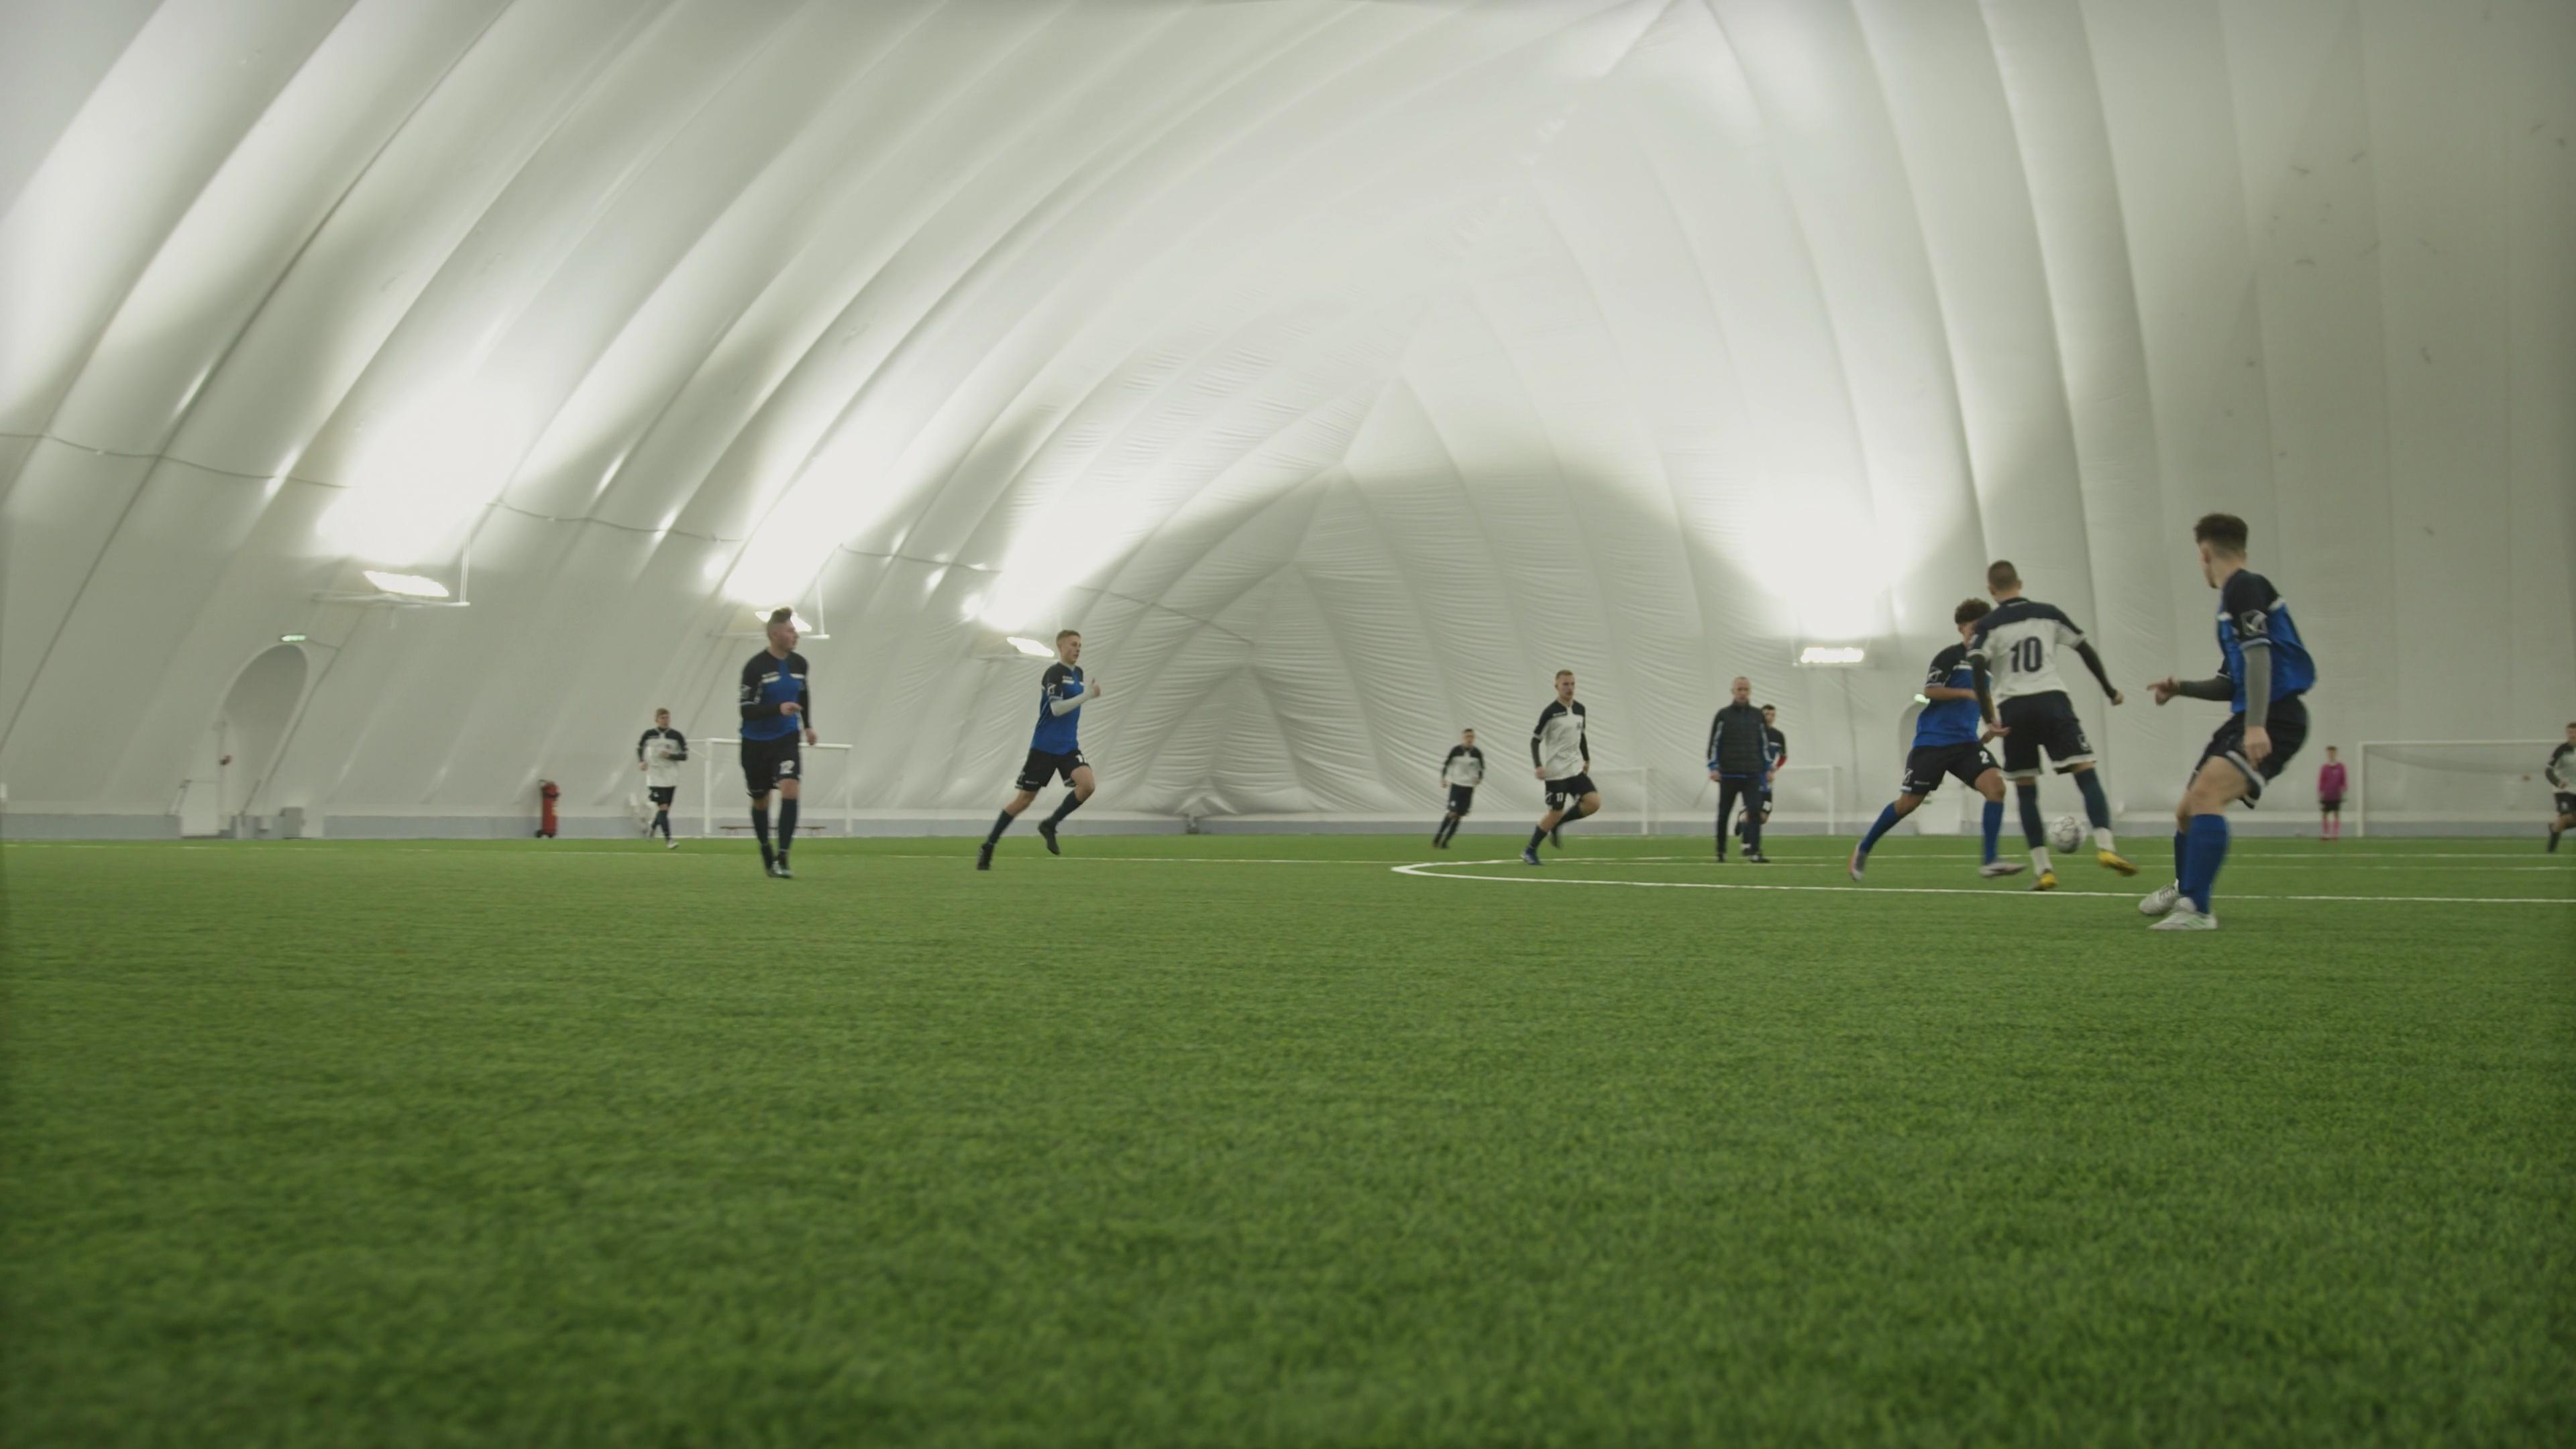other: (1704, 674, 1785, 862)
team1: (2137, 511, 2319, 931), (1847, 630, 2012, 881), (973, 632, 1099, 870), (736, 612, 814, 879)
team1gk: (2314, 748, 2351, 842)
team2: (1969, 554, 2134, 886), (1523, 667, 1599, 865), (633, 704, 692, 846), (1431, 725, 1484, 853), (2546, 724, 2574, 858)
